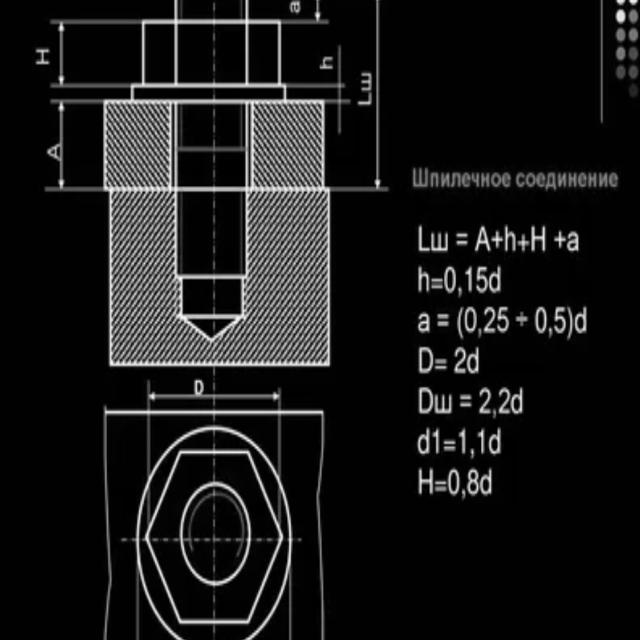marking_line: (332, 0, 390, 194), (47, 16, 142, 82), (49, 19, 131, 91), (43, 97, 103, 192), (147, 380, 284, 410), (288, 49, 345, 89), (282, 0, 332, 25), (326, 97, 352, 135)
numeric: (475, 385, 492, 416), (466, 466, 481, 497), (476, 265, 490, 294), (464, 307, 479, 334), (496, 302, 509, 333), (447, 467, 461, 495), (484, 306, 497, 335), (553, 304, 565, 335), (454, 345, 466, 375), (445, 264, 457, 293), (497, 389, 510, 414), (464, 267, 475, 295), (536, 305, 546, 333), (455, 231, 470, 248), (443, 436, 458, 452), (436, 313, 450, 329), (459, 428, 466, 456), (478, 429, 485, 456), (433, 359, 448, 371), (430, 277, 444, 289), (433, 427, 439, 455), (435, 479, 446, 494), (461, 394, 473, 407)
special_symbol: (517, 235, 531, 254), (566, 305, 573, 341), (555, 230, 566, 252), (516, 311, 530, 328), (457, 308, 464, 339), (492, 230, 504, 248)
